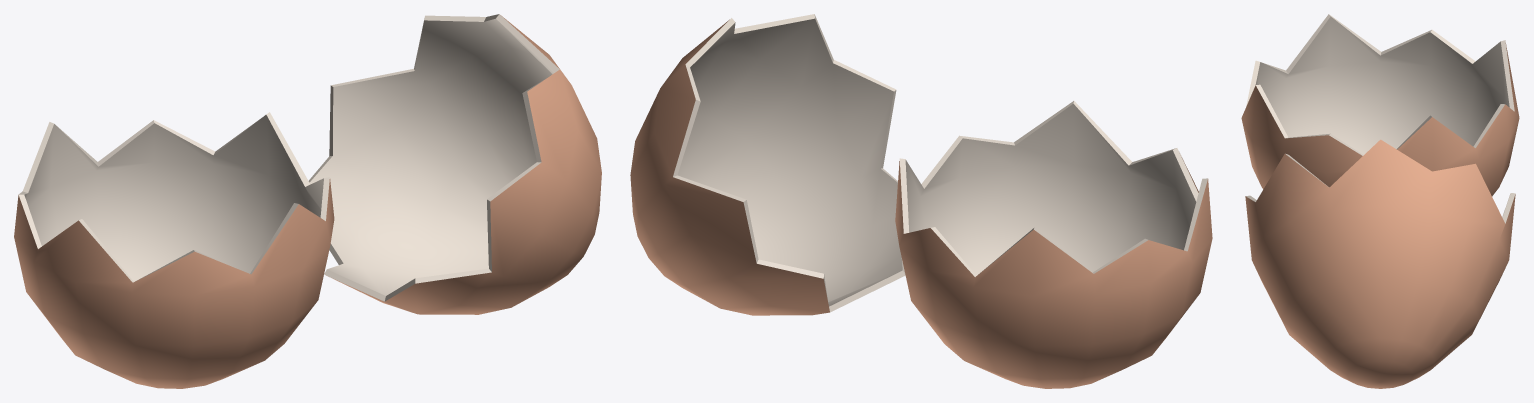
The model's file is eggs.fbx.
3 renders of one model, left to right at view 1: azimuth 30°, elevation 25°; view 2: azimuth 150°, elevation 25°; view 3: azimuth 270°, elevation 25°, orthographic. The views are drawn at different scales.
Parts seen in each view (by area): view 1: Grounds & Shells.001; view 2: Grounds & Shells.001; view 3: Grounds & Shells.001.
Boxes of the visible parts, x1,y1,x2,y2 form: Grounds & Shells.001: (14,14,601,388); Grounds & Shells.001: (630,14,1212,388); Grounds & Shells.001: (1241,14,1519,388).
Bounding box in the file's own units: 92.15 × 44.71 × 46.63.
